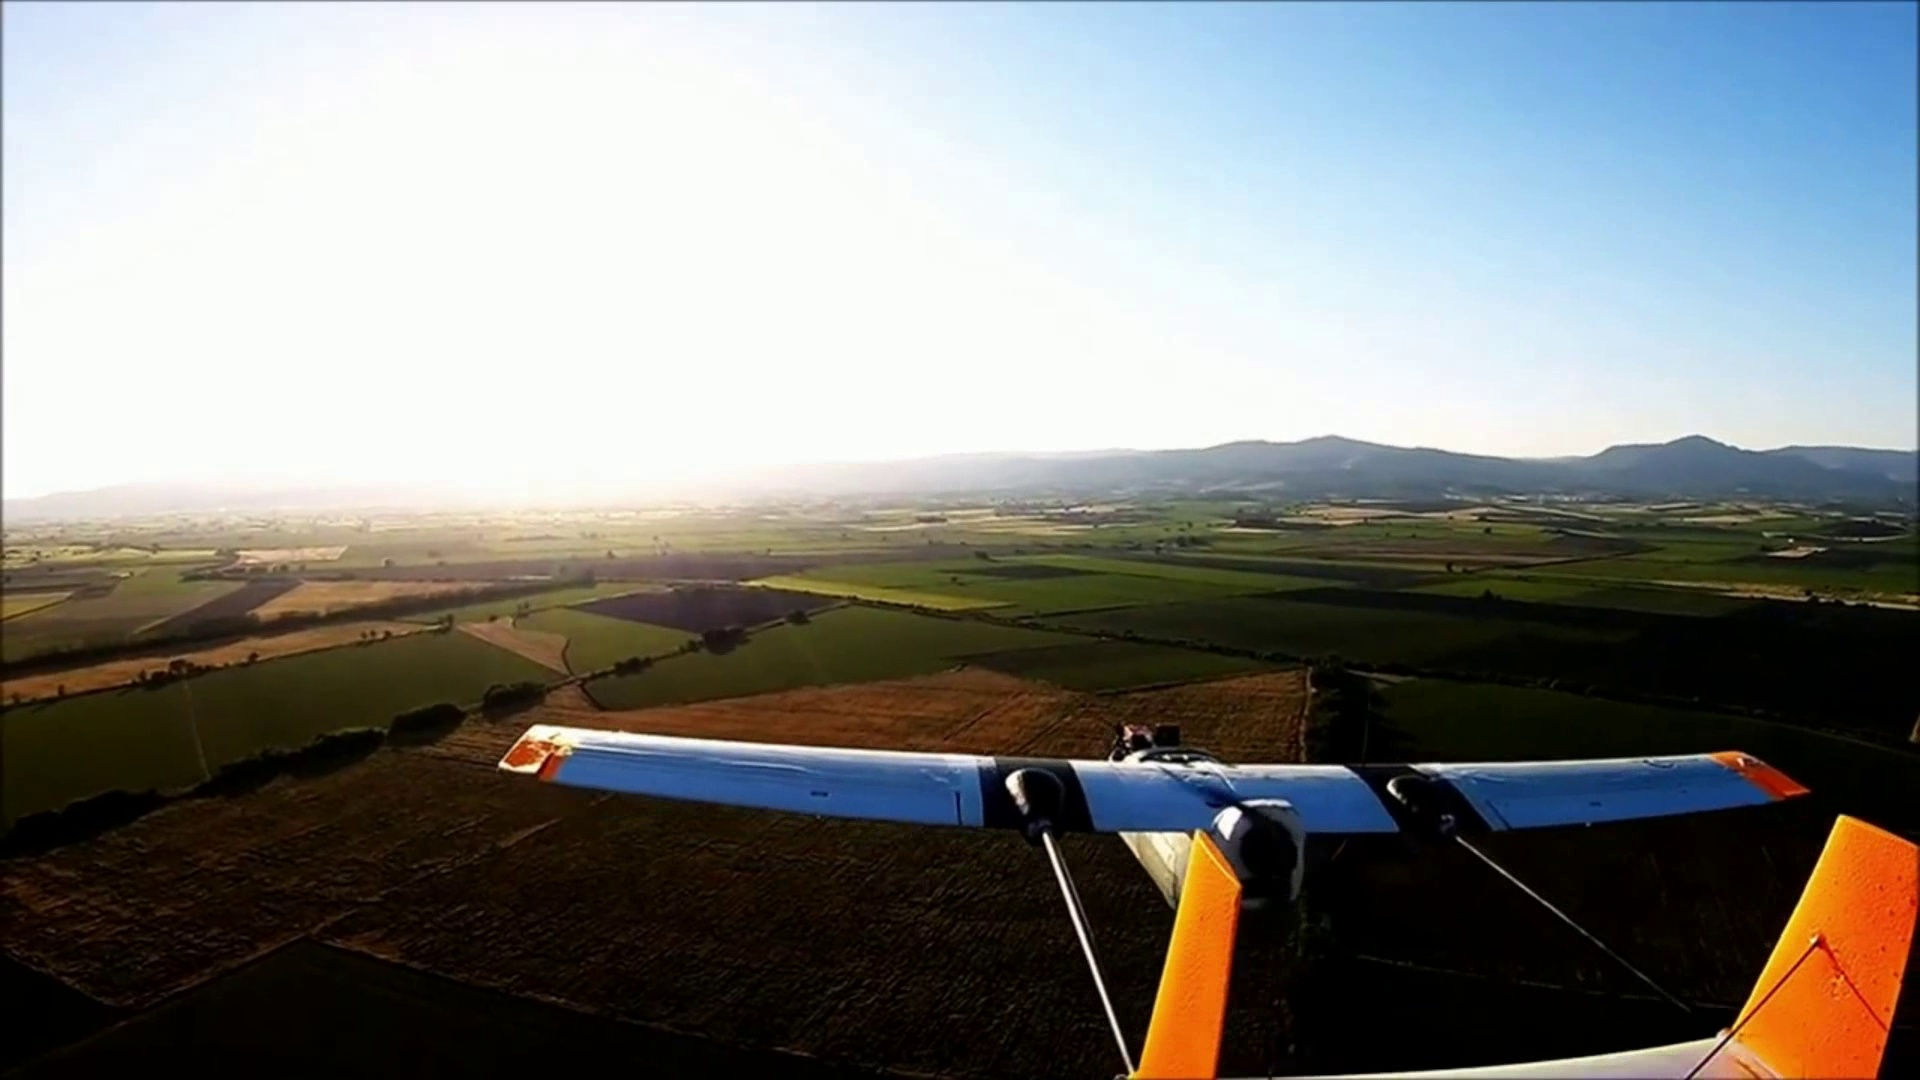airplane: (499, 716, 1917, 1070)
